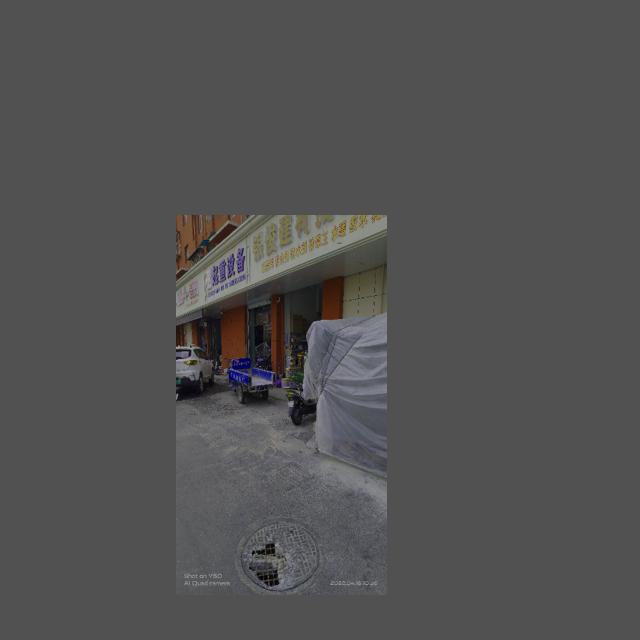broke: (235, 517, 325, 594)
